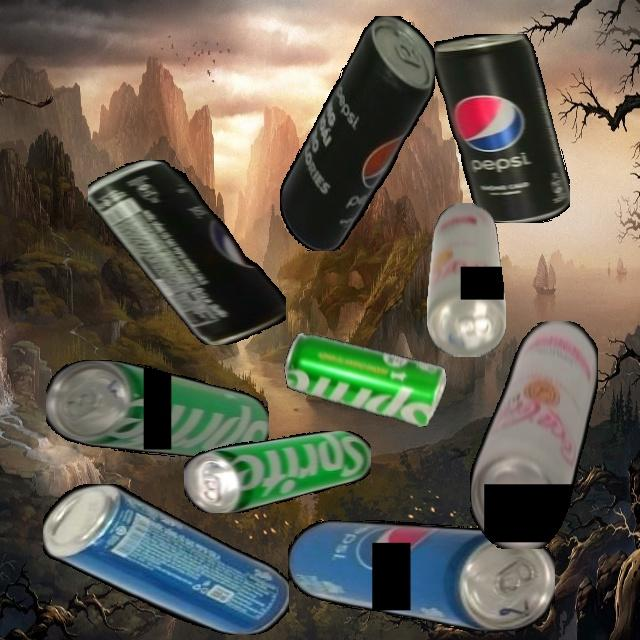debris: (42, 484, 289, 635), (88, 159, 286, 345), (279, 15, 435, 251), (287, 520, 555, 632), (469, 320, 598, 549), (433, 34, 570, 223), (279, 310, 454, 448), (46, 359, 269, 458), (184, 430, 371, 513), (426, 202, 506, 357)
